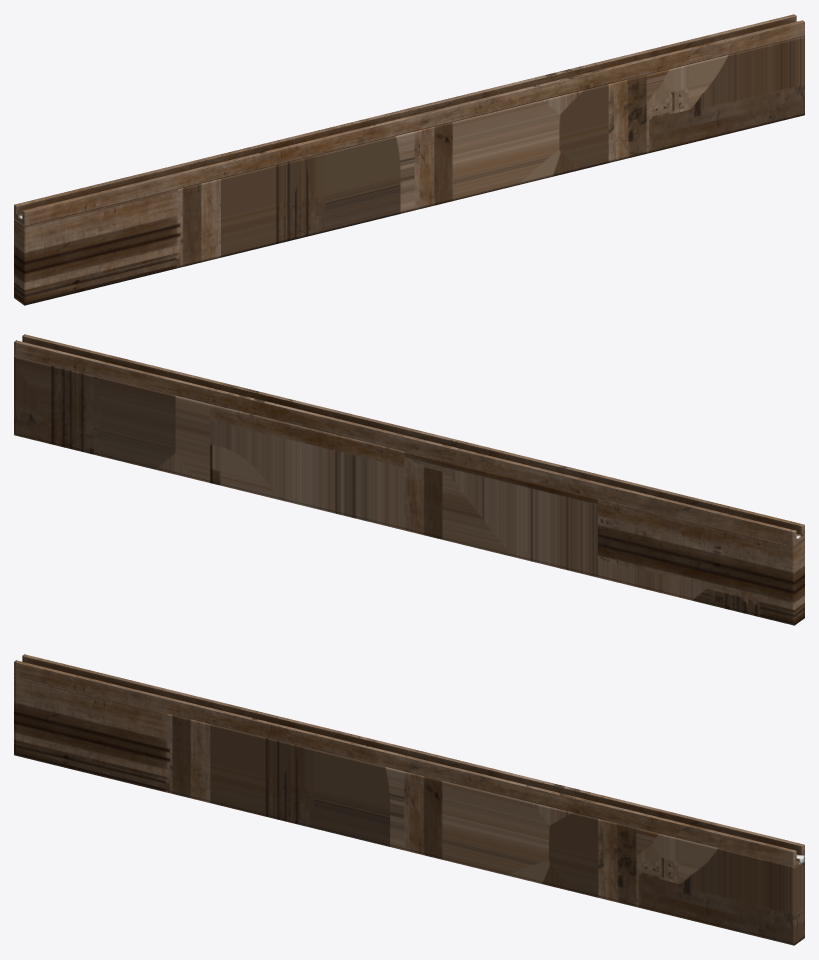
File: Schiene.fbx
3 views of the same model, one above another, from view 1: azimuth 30°, elevation 25°; view 2: azimuth 150°, elevation 25°; view 3: azimuth 330°, elevation 25° (orthographic).
Visible parts, largest first — view 1: schiene.001, schiene; view 2: schiene.001, schiene; view 3: schiene.001, schiene.
Boxes of the visible parts, x1,y1,x2,y2 form: schiene.001: [14, 36, 804, 305]; schiene: [14, 14, 804, 226]; schiene.001: [14, 356, 804, 625]; schiene: [14, 334, 804, 546]; schiene.001: [14, 676, 804, 945]; schiene: [14, 654, 804, 866].
Size of the model in its own units: 412 by 46.87 by 9.5.
